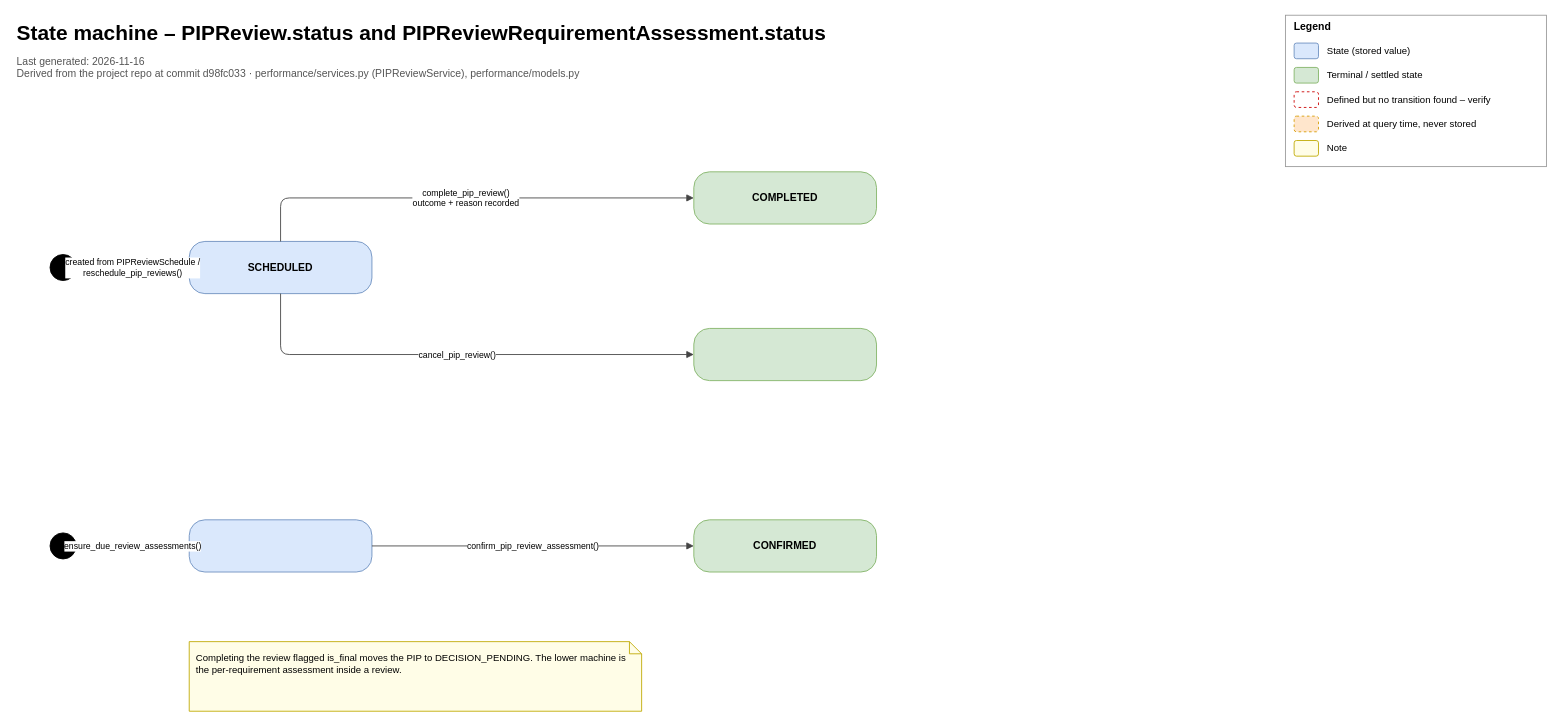
Some shapes in this 1562 by 726 pixel diagram are drawn without their labels. Here are the shapes that lost their labels. From the top down, the box of each, then its label:
(693, 328, 877, 381): CANCELLED
(188, 519, 372, 572): PREPARED
